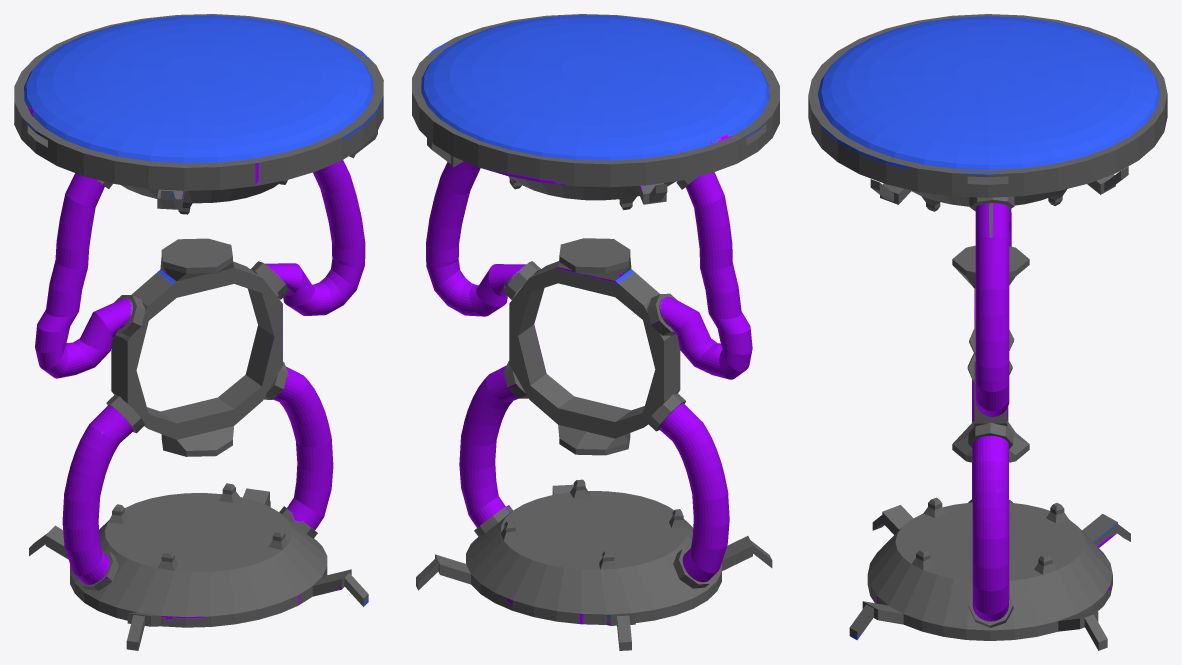
File: center_platform_IMPROVED_joined.fbx
The picture shows the model from 3 angles, left to right: view 1: azimuth 30°, elevation 25°; view 2: azimuth 150°, elevation 25°; view 3: azimuth 270°, elevation 25°; orthographic projection.
Visible parts, largest first — view 1: portal; view 2: portal; view 3: portal.
Part boxes in pixels (x1,y1,x2,y2): portal: [14, 14, 383, 650]; portal: [412, 14, 779, 650]; portal: [808, 14, 1167, 650].
Size of the model in its own units: 1601 by 2371 by 1498.
Materials: 1 (1 with a texture image).
